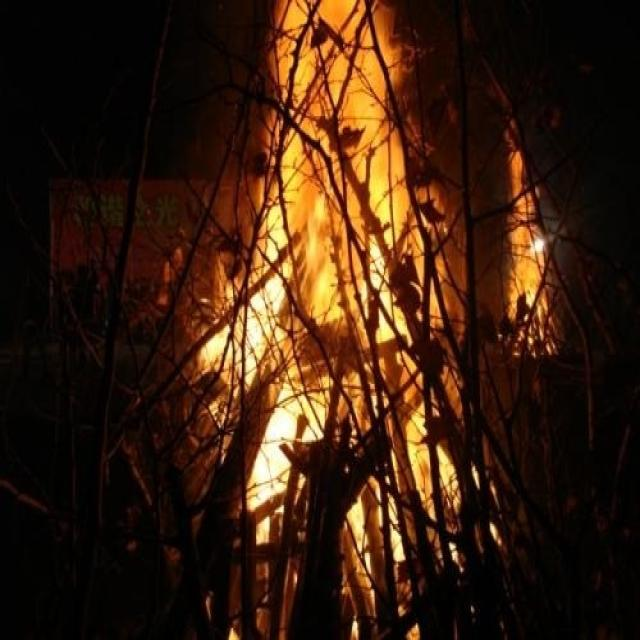Fire: (192, 1, 560, 640)
